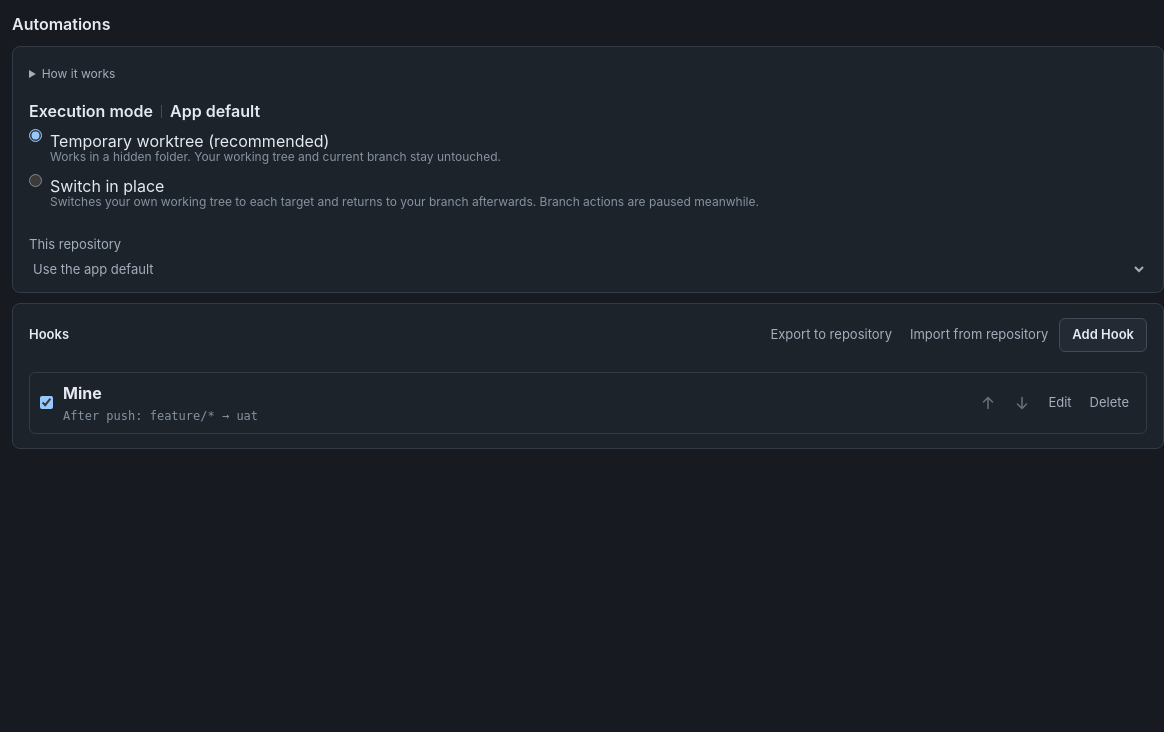
it: can cancel the review without saving anything
Expected: the text "Mine" is shown, [63,382,102,402]
Step 1. Click the button "Import from repository" → (979, 334), box [903,318,1055,352]
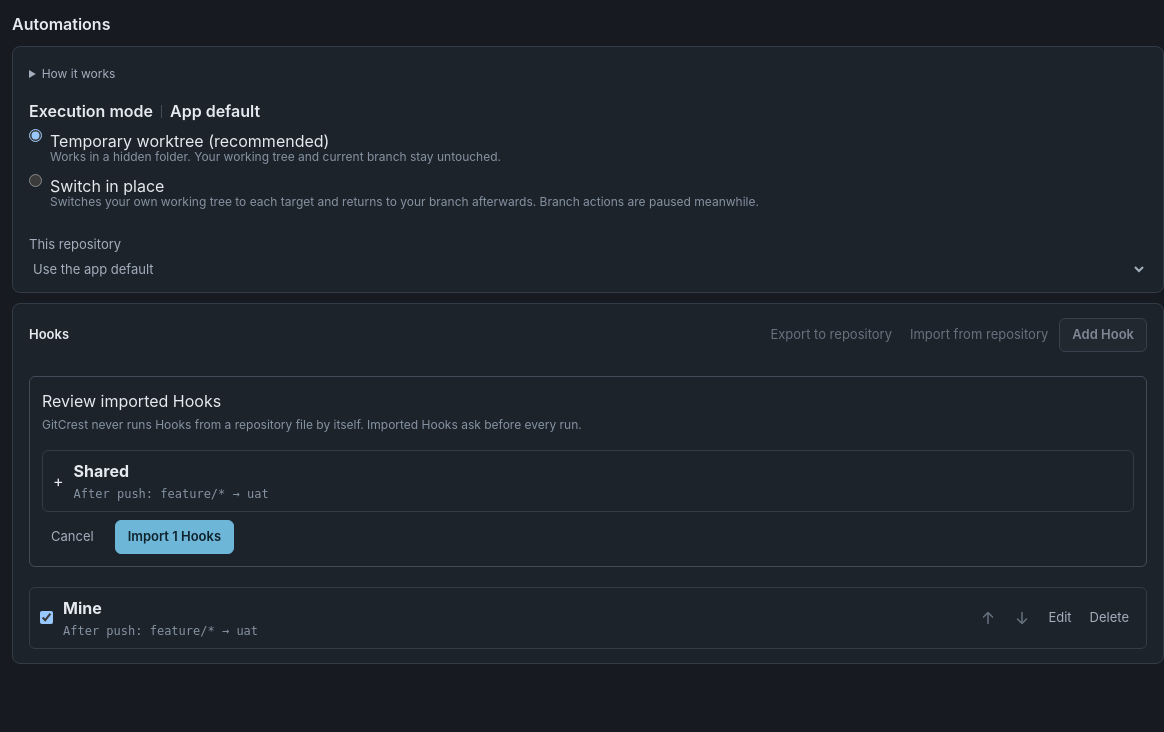
Step 2. Click the button "Cancel" → (72, 536), box [42,522,103,552]
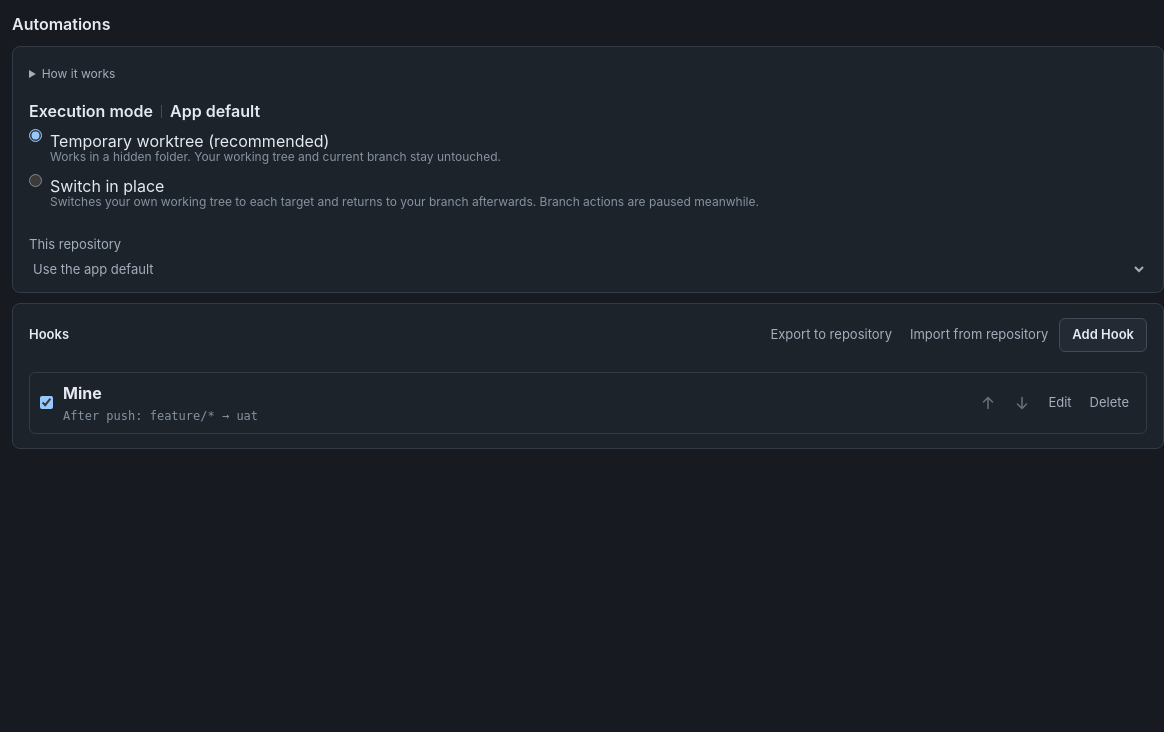
Now the heading "Review imported Hooks" is gone
